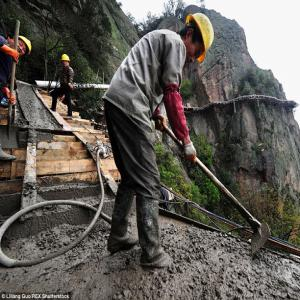none: (7, 33, 17, 46)
yellow: (182, 10, 216, 67), (13, 36, 34, 60), (61, 53, 71, 68)
